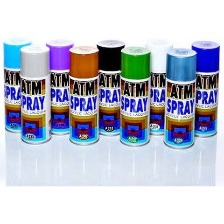aerosol_cans: (16, 41, 55, 146), (141, 35, 179, 138), (162, 44, 198, 152), (64, 43, 101, 147), (0, 32, 37, 135), (185, 38, 222, 140), (117, 43, 152, 149), (41, 36, 77, 138), (92, 35, 127, 138)
